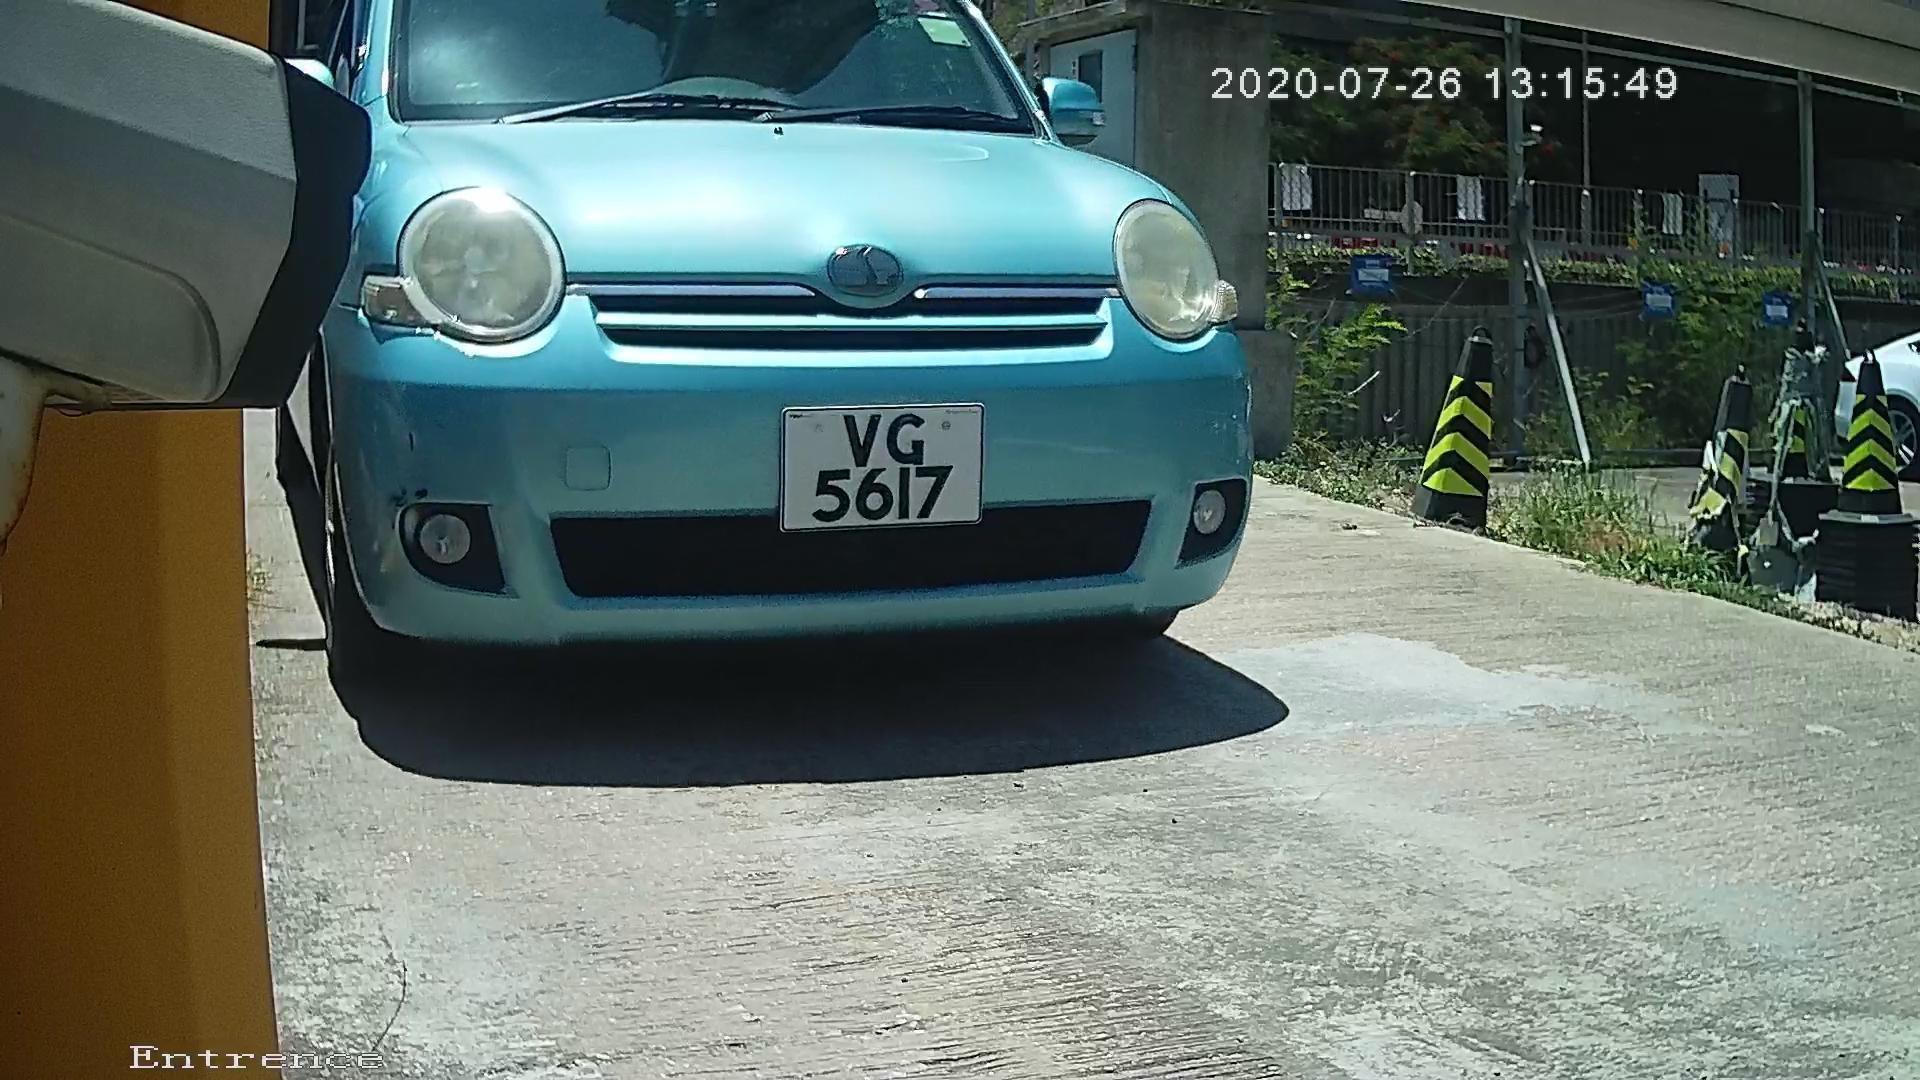privatecar: (206, 1, 1364, 791)
